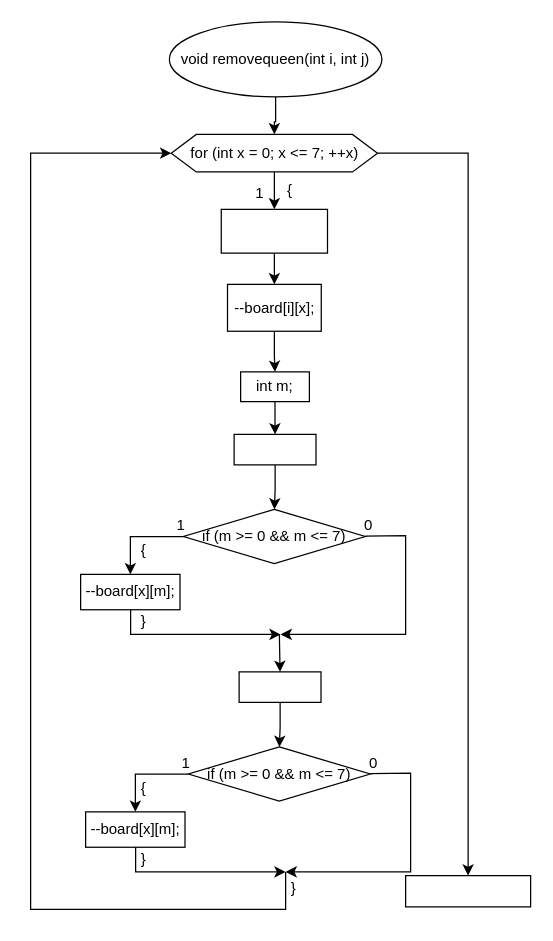
The diagram is 553 pixels wide and 941 high, and some of its shapes have lost their labels. Each missing label, with the centre of its shape:
"--board[x][j];" belongs at pixel 274 230.
"board[i][j] = 0;}" belongs at pixel 467 890.
"m = j + i - x;" belongs at pixel 279 686.
"m = j - i + x;" belongs at pixel 274 449.
